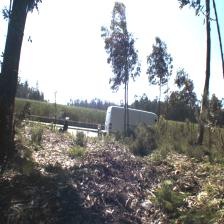trunktrack_idkeyframe: (0, 18, 24, 138), (198, 26, 216, 154)
